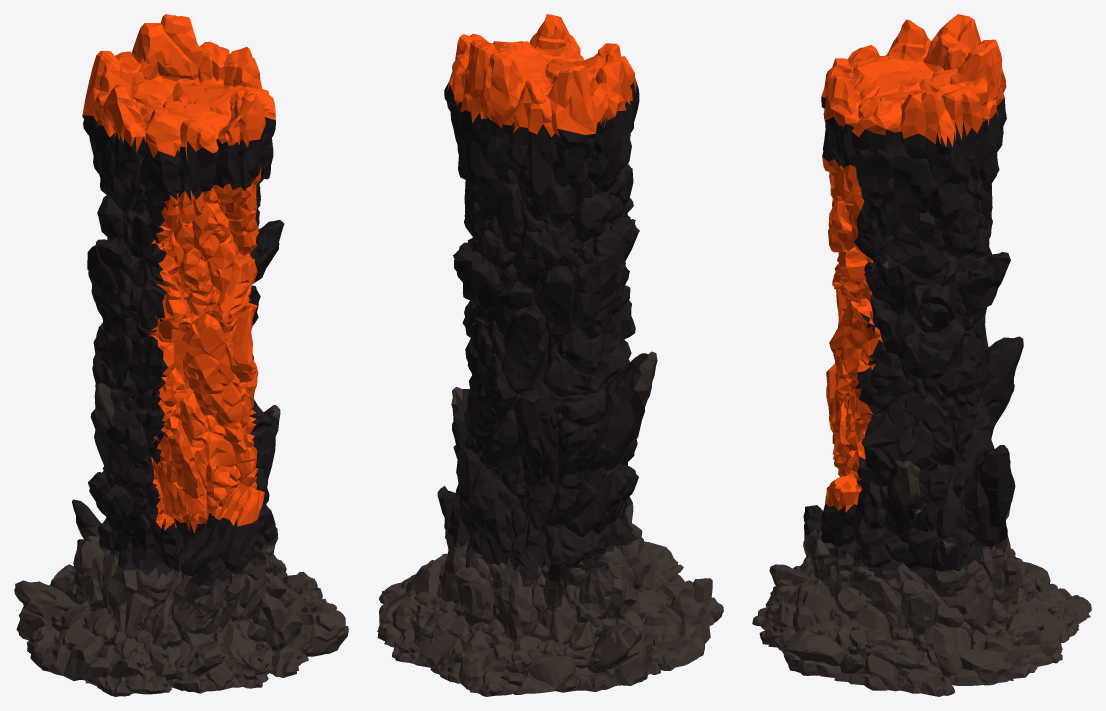
Rendered from magma_pillar.obj.
3 views of the same model, side by side, from view 1: azimuth 30°, elevation 25°; view 2: azimuth 150°, elevation 25°; view 3: azimuth 270°, elevation 25° (orthographic). The views are drawn at different scales.
Parts seen in each view (by area): view 1: magma_pillar; view 2: magma_pillar; view 3: magma_pillar.
Boxes of the visible parts, left/top/right/bottom form: magma_pillar: left=14, top=14, right=348, bottom=696; magma_pillar: left=377, top=14, right=723, bottom=696; magma_pillar: left=752, top=14, right=1091, bottom=696.
Size of the model in its own units: 2.75 by 5.2 by 2.71.
